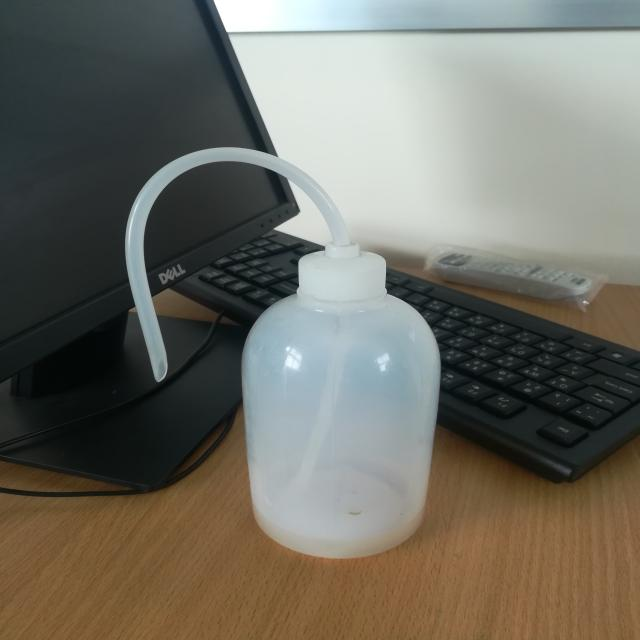Wash_Bottle: (91, 111, 483, 584)
